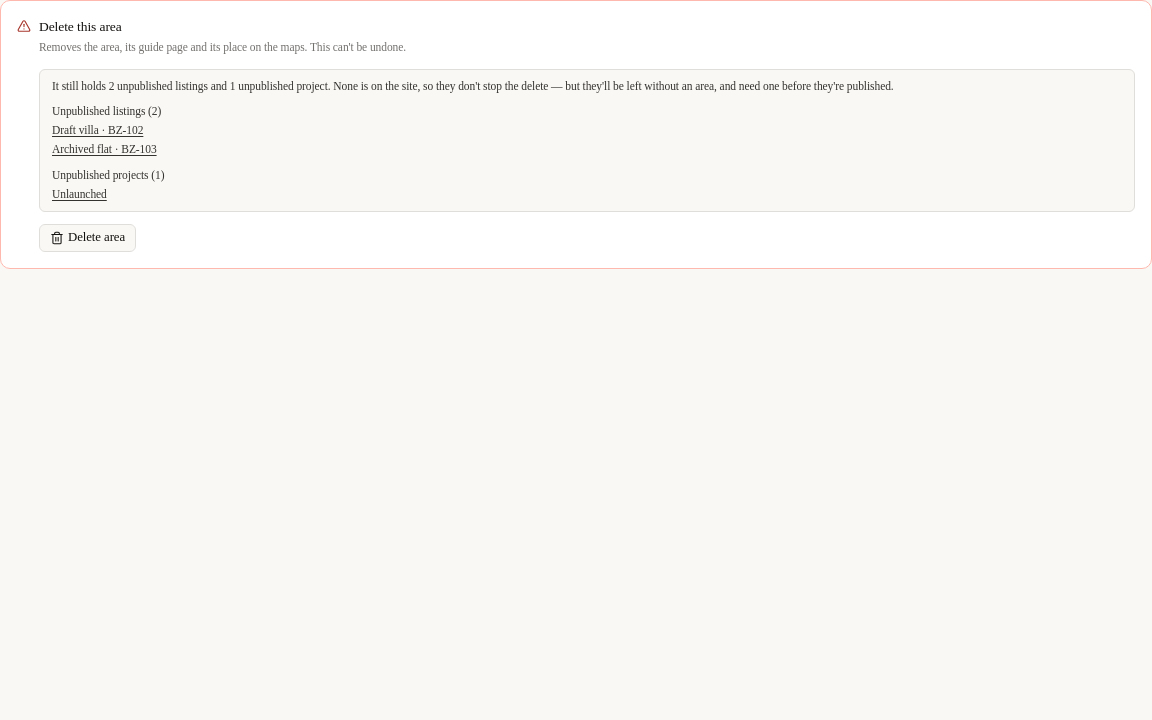
Test case: DeleteAreaCard › lets unpublished listings and projects through, naming what loses its area
Expected: the text "still holds 2 unpublished listings and 1 unpublished project" is shown, [52,80,894,92]
Click the button "Delete area" at (88, 238), box [39,224,136,252]
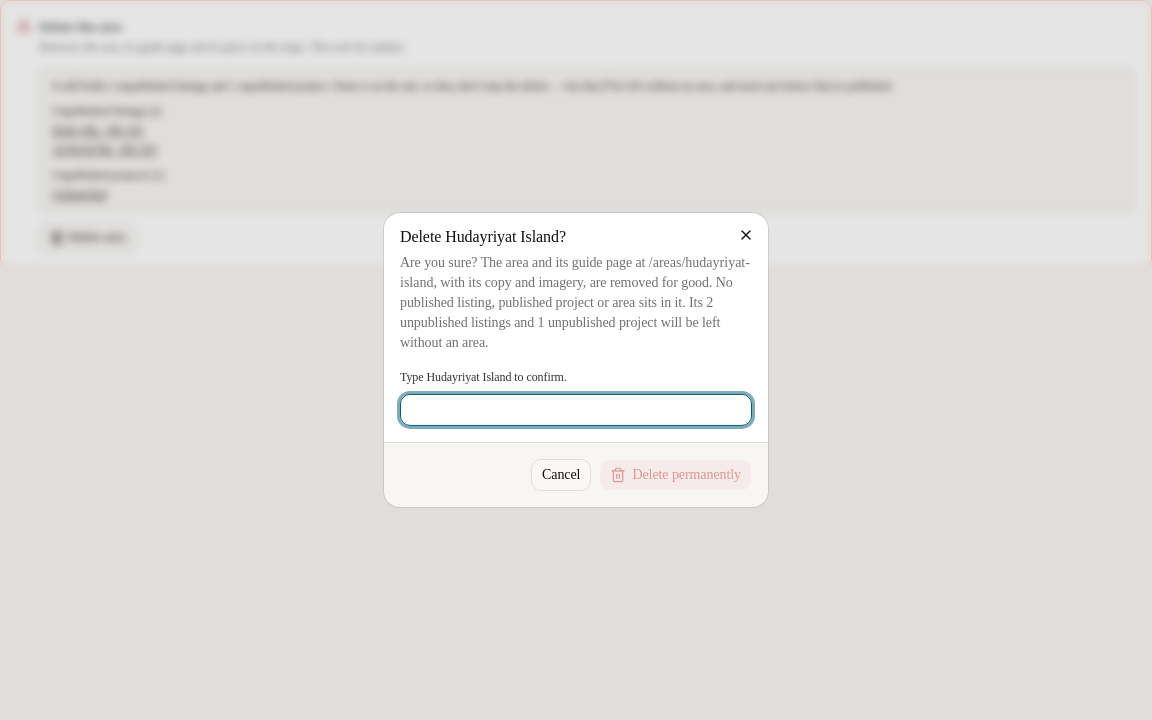
Now the dialog shows "2 unpublished listings and 1 unpublished project will be left without an area", box [400,295,720,350]
